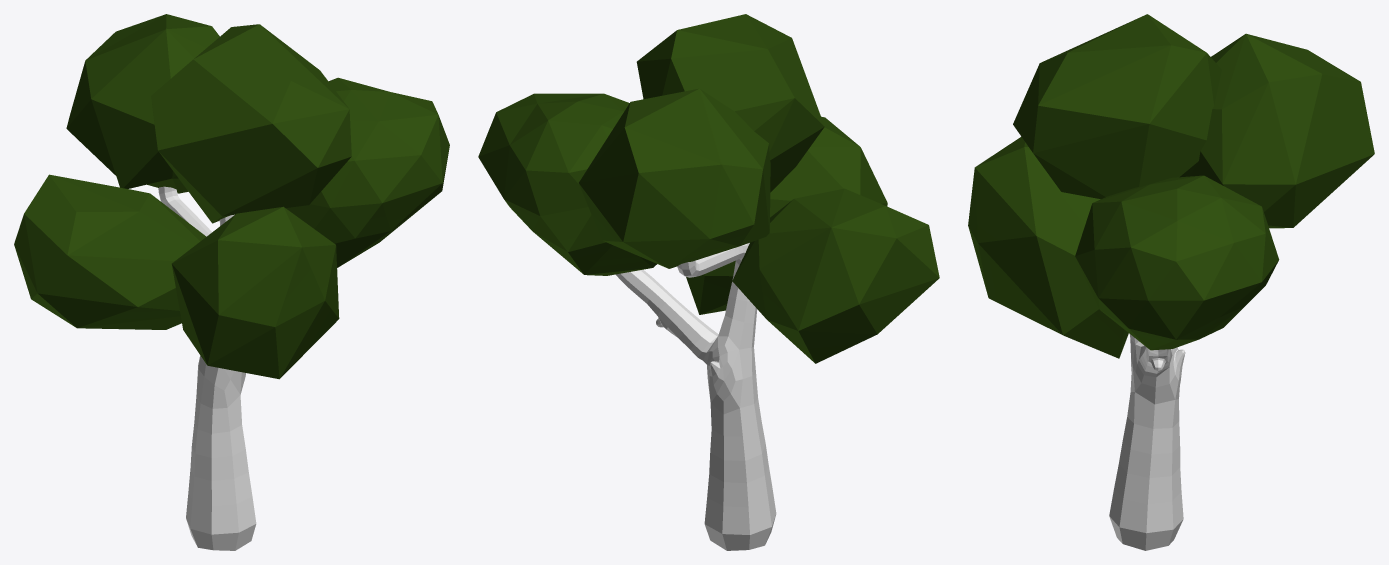
The model's file is tree1.fbx.
3 views of the same model, side by side, from view 1: azimuth 30°, elevation 25°; view 2: azimuth 150°, elevation 25°; view 3: azimuth 270°, elevation 25° (orthographic). The views are drawn at different scales.
Visible parts, largest first — view 1: Icosphere.003, Icosphere.004, Icosphere.002, Icosphere.001, Icosphere, Cube; view 2: Icosphere, Icosphere.002, Cube, Icosphere.001, Icosphere.003, Icosphere.004; view 3: Icosphere.003, Icosphere.001, Icosphere, Icosphere.004, Cube.
Boxes of the visible parts, x1=… form: Icosphere.003: x1=151, y1=24, x2=351, y2=223; Icosphere.004: x1=171, y1=206, x2=339, y2=379; Icosphere.002: x1=14, y1=174, x2=206, y2=329; Icosphere.001: x1=286, y1=77, x2=449, y2=267; Icosphere: x1=66, y1=14, x2=219, y2=193; Cube: x1=158, y1=186, x2=256, y2=550; Icosphere: x1=579, y1=88, x2=770, y2=268; Icosphere.002: x1=732, y1=188, x2=939, y2=363; Cube: x1=616, y1=243, x2=776, y2=550; Icosphere.001: x1=478, y1=93, x2=656, y2=275; Icosphere.003: x1=636, y1=14, x2=824, y2=192; Icosphere.004: x1=686, y1=116, x2=887, y2=314; Icosphere.003: x1=1013, y1=14, x2=1221, y2=199; Icosphere.001: x1=1075, y1=175, x2=1279, y2=350; Icosphere: x1=1189, y1=33, x2=1374, y2=228; Icosphere.004: x1=968, y1=136, x2=1128, y2=358; Cube: x1=1109, y1=334, x2=1185, y2=550.
Size of the model in its own units: 4.32 by 4.96 by 3.47.
